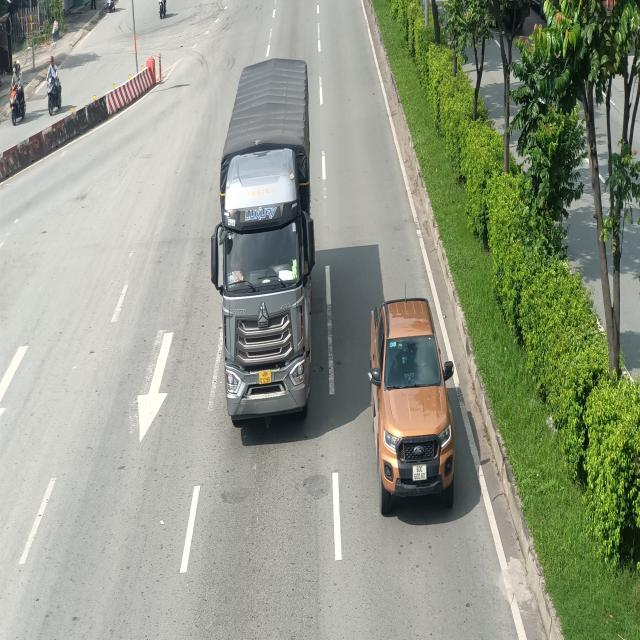car: (367, 296, 454, 510)
truck: (209, 55, 315, 422)
